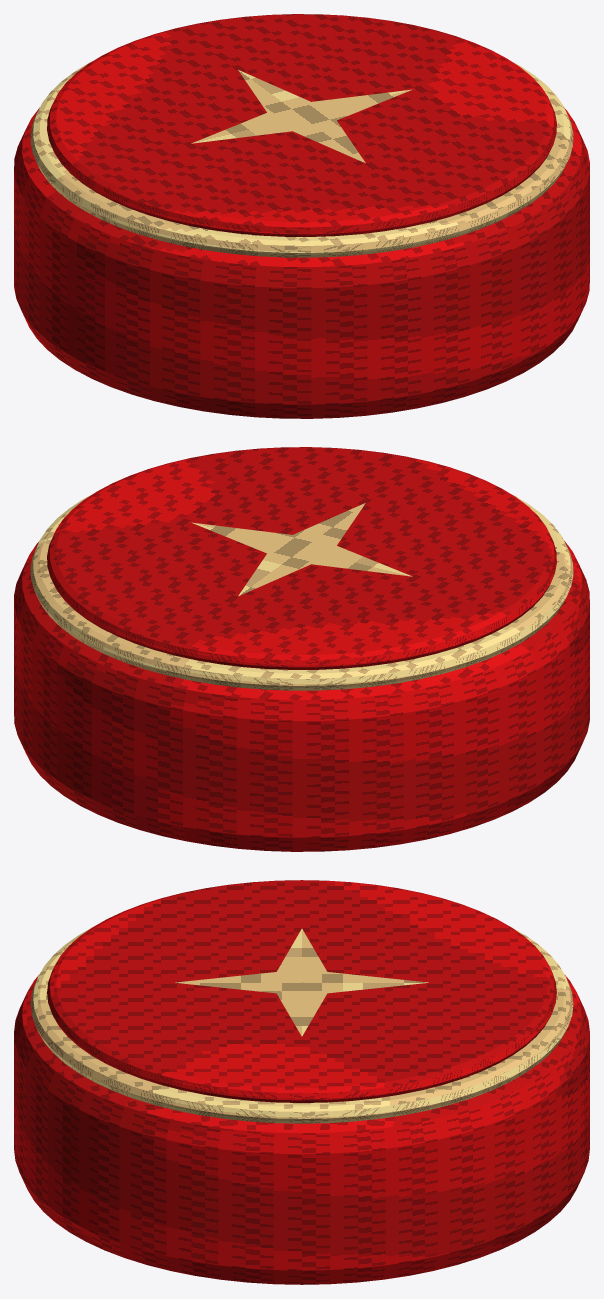
Rendered from Checker_Red.glb.
3 renders of one model, top to bottom at view 1: azimuth 30°, elevation 25°; view 2: azimuth 150°, elevation 25°; view 3: azimuth 270°, elevation 25°, orthographic.
Visible parts, largest first — view 1: Checker_Red; view 2: Checker_Red; view 3: Checker_Red.
Part boxes in pixels (x1,y1,x2,y2): Checker_Red: [14, 14, 589, 418]; Checker_Red: [14, 447, 589, 851]; Checker_Red: [14, 880, 589, 1284].
Size of the model in its own units: 0.0314 by 0.0115 by 0.0314.
2 materials, 2 textured.
